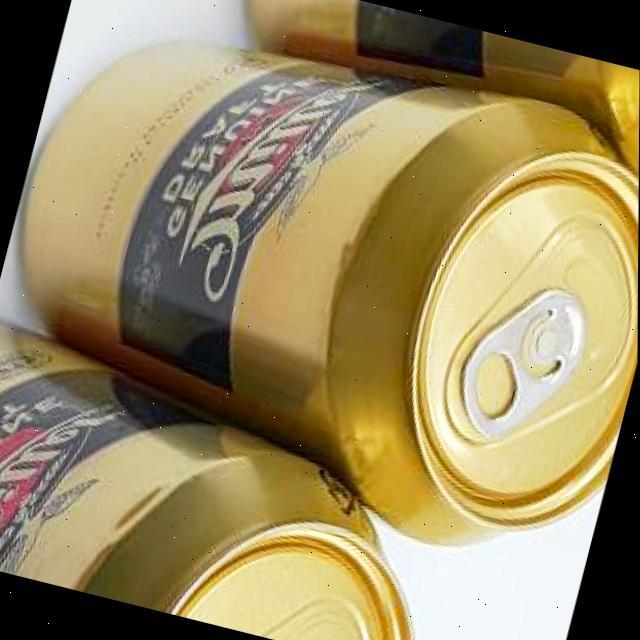Lata: (23, 36, 640, 550)
